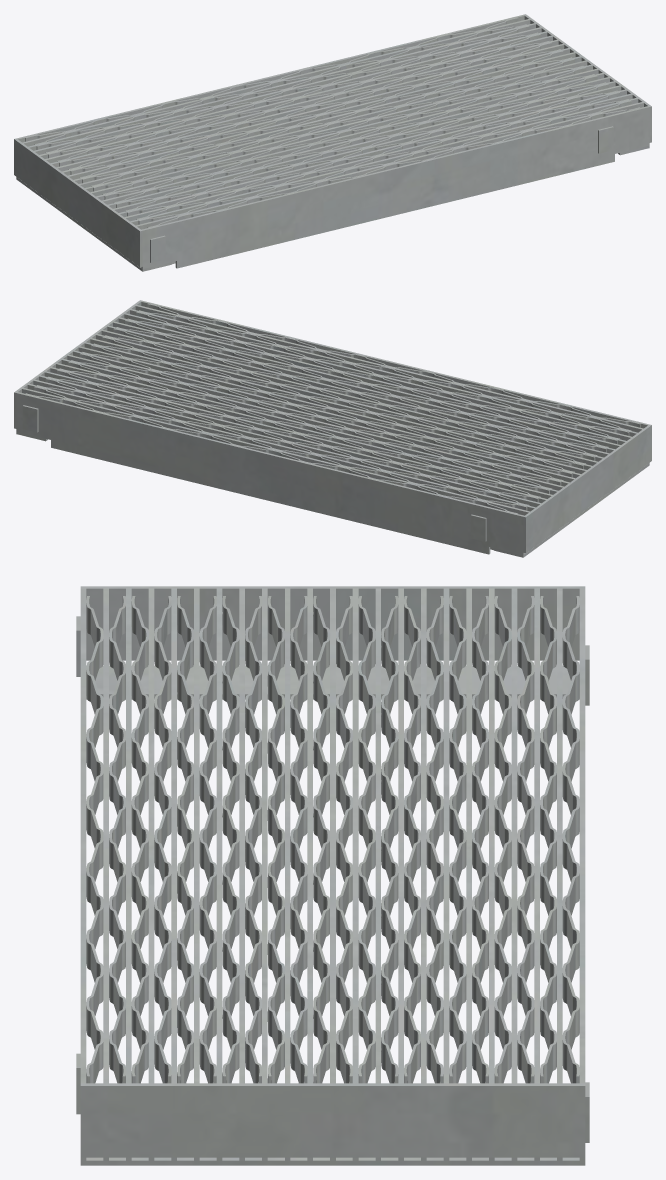
Rendered from ms-revit-grating.glb.
3 renders of one model, top to bottom at view 1: azimuth 30°, elevation 25°; view 2: azimuth 150°, elevation 25°; view 3: azimuth 270°, elevation 25°, orthographic. The views are drawn at different scales.
Parts seen in each view (by area): view 1: NAUO4_high; view 2: NAUO4_high; view 3: NAUO4_high.
Part boxes in pixels (x1=…): NAUO4_high: x1=14, y1=14, x2=651, y2=271; NAUO4_high: x1=14, y1=300, x2=651, y2=557; NAUO4_high: x1=76, y1=586, x2=589, y2=1165.
Bounding box in the file's own units: 1.32 × 0.1144 × 0.5751.
1 material, 1 textured.
